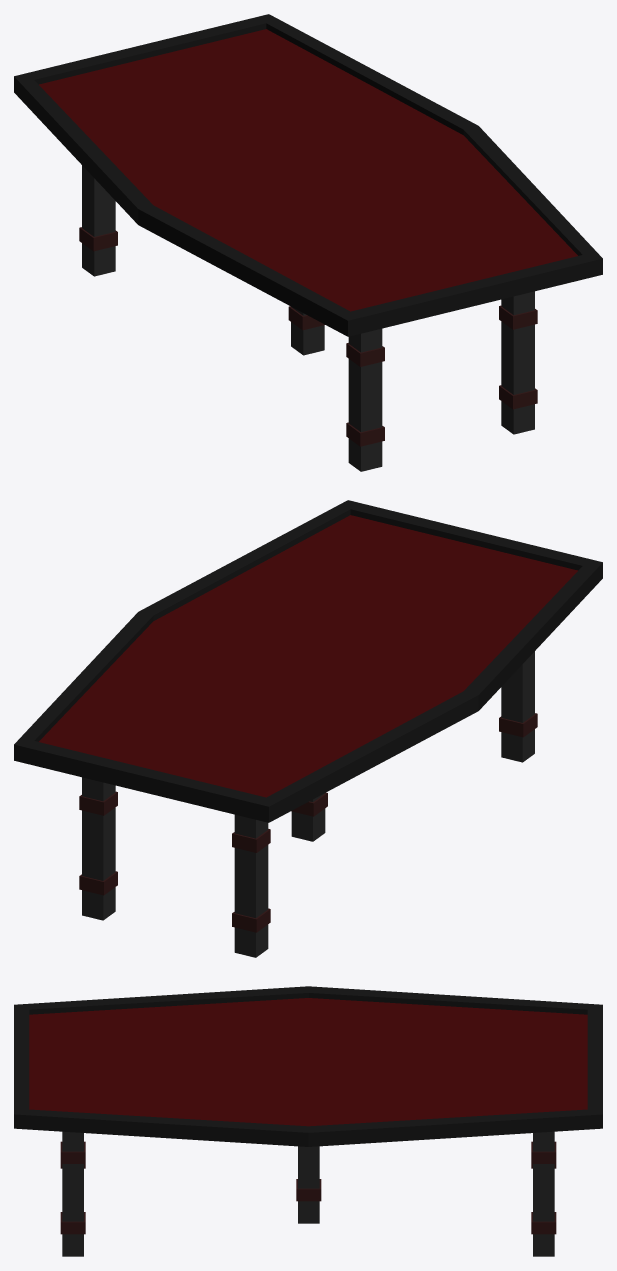
Rendered from pokertable.fbx.
3 views of the same model, one above another, from view 1: azimuth 30°, elevation 25°; view 2: azimuth 150°, elevation 25°; view 3: azimuth 270°, elevation 25° (orthographic). The views are drawn at different scales.
Parts seen in each view (by area): view 1: PokerTable; view 2: PokerTable; view 3: PokerTable.
Boxes of the visible parts, x1=… form: PokerTable: x1=14, y1=14, x2=602, y2=471; PokerTable: x1=14, y1=500, x2=602, y2=957; PokerTable: x1=14, y1=986, x2=602, y2=1256.
Size of the model in its own units: 267 by 136 by 454.
